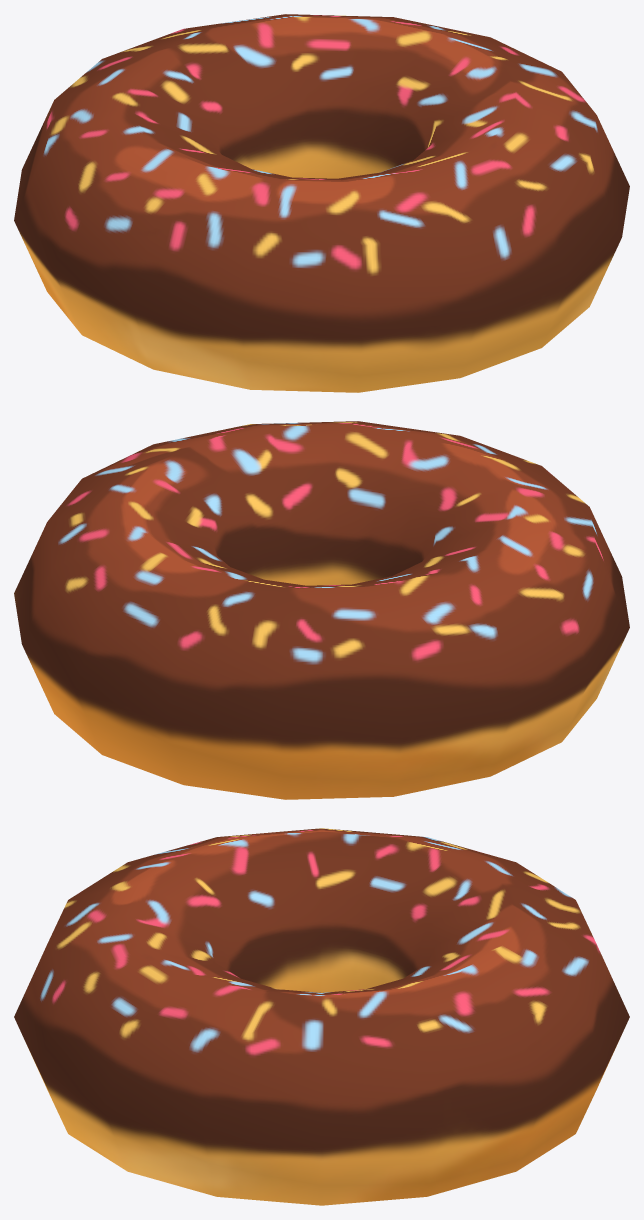
3 renders of one model, top to bottom at view 1: azimuth 30°, elevation 25°; view 2: azimuth 150°, elevation 25°; view 3: azimuth 270°, elevation 25°, orthographic.
Visible parts, largest first — view 1: Donut; view 2: Donut; view 3: Donut.
Part boxes in pixels (left/top/right/bottom): Donut: left=14, top=14, right=629, bottom=392; Donut: left=14, top=421, right=629, bottom=799; Donut: left=14, top=828, right=629, bottom=1205.
Bounding box in the file's own units: 1.36 × 0.5 × 1.36.
Materials: 1 (1 with a texture image).
